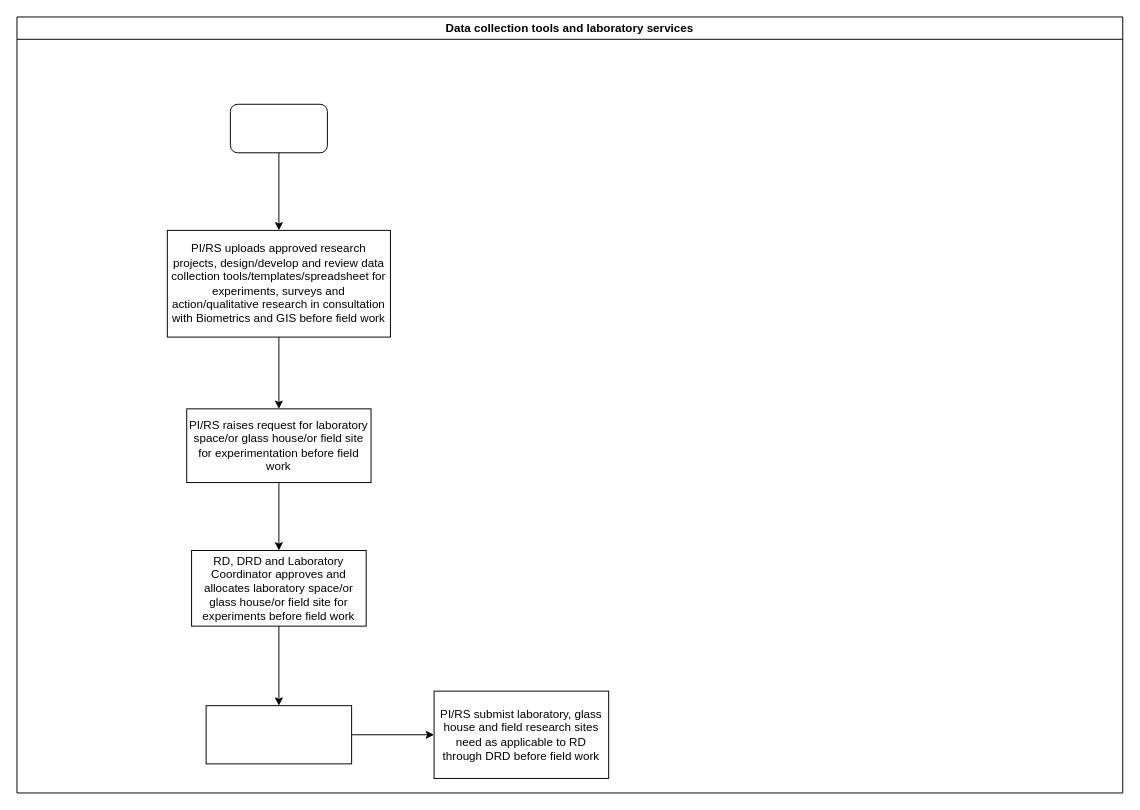
The diagram is 1140 pixels wide and 810 high, and some of its shapes have lost their labels. The shapes that lost their labels are listed below. From the top down, each one's centre as x and y in pixels, then its label:
point 278,128: Start
point 278,734: PI/RS Identify laboratory reagent needs for experiment before field work
